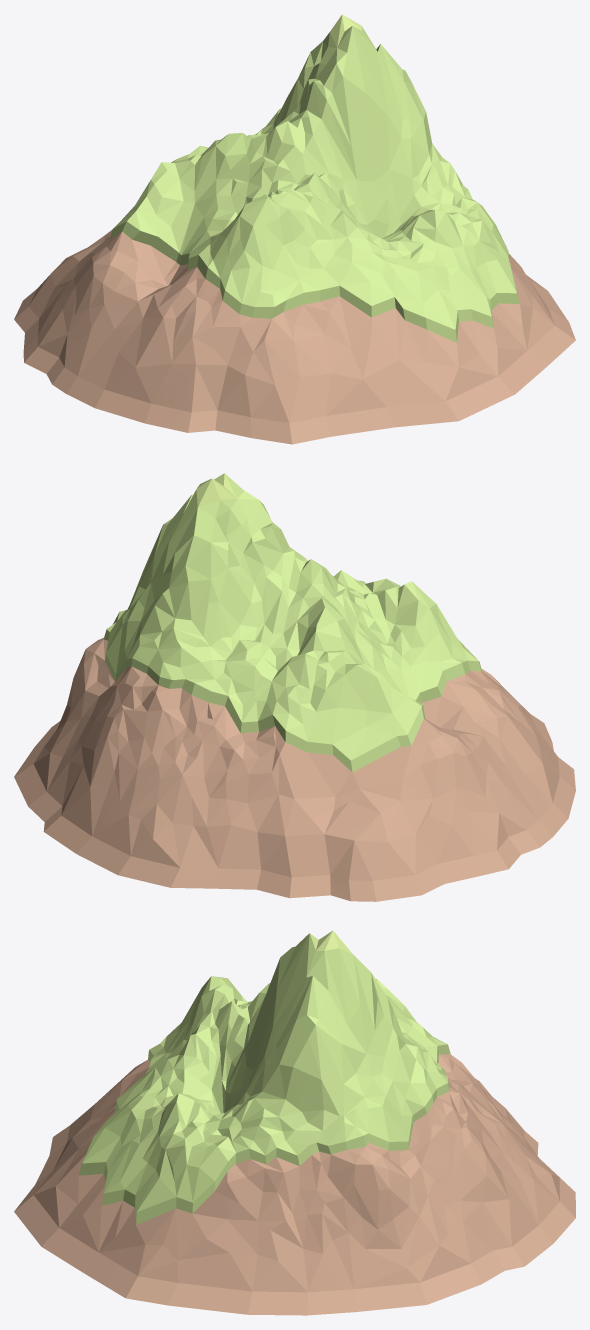
File: forest_mountain_moss_01.glb
3 renders of one model, top to bottom at view 1: azimuth 30°, elevation 25°; view 2: azimuth 150°, elevation 25°; view 3: azimuth 270°, elevation 25°, orthographic. The views are drawn at different scales.
Parts seen in each view (by area): view 1: PP_Forest_Mountain_Moss_01.002; view 2: PP_Forest_Mountain_Moss_01.002; view 3: PP_Forest_Mountain_Moss_01.002.
Boxes of the visible parts, x1,y1,x2,y2 form: PP_Forest_Mountain_Moss_01.002: [14, 14, 575, 444]; PP_Forest_Mountain_Moss_01.002: [14, 473, 575, 901]; PP_Forest_Mountain_Moss_01.002: [14, 930, 575, 1315].
Size of the model in its own units: 22.96 by 13.51 by 22.85.
